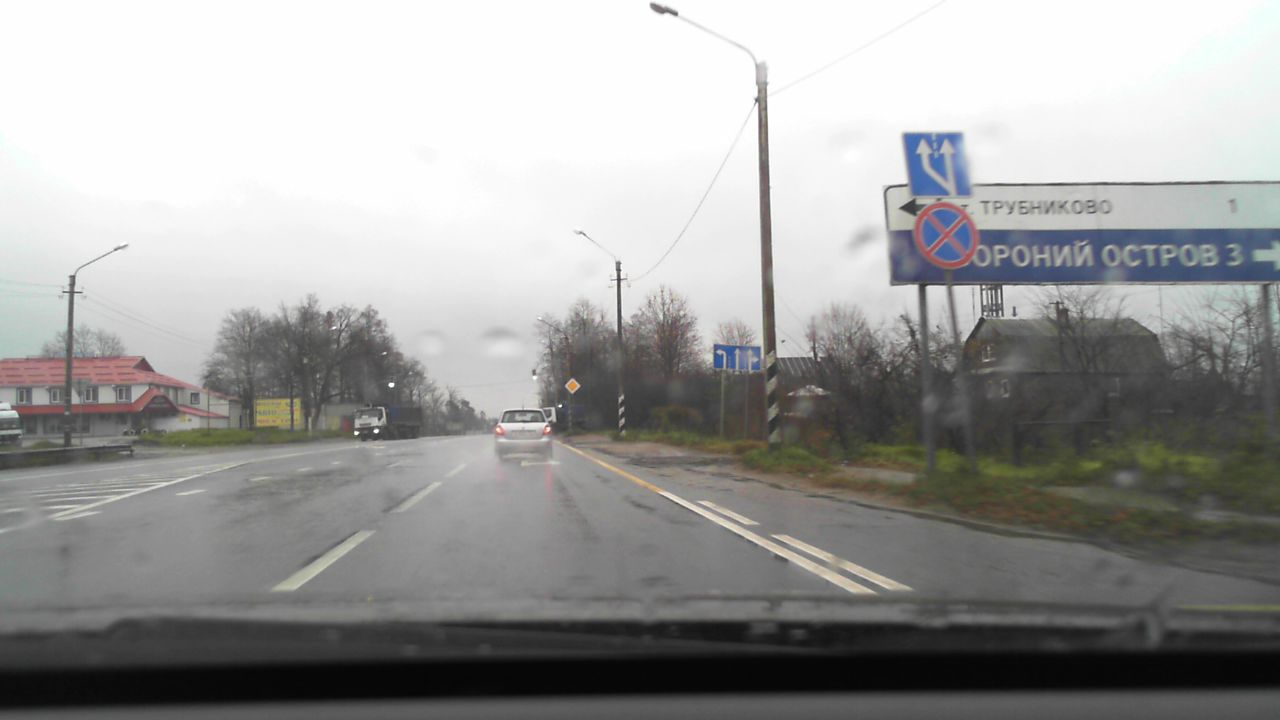No Parking: (913, 202, 978, 269)
